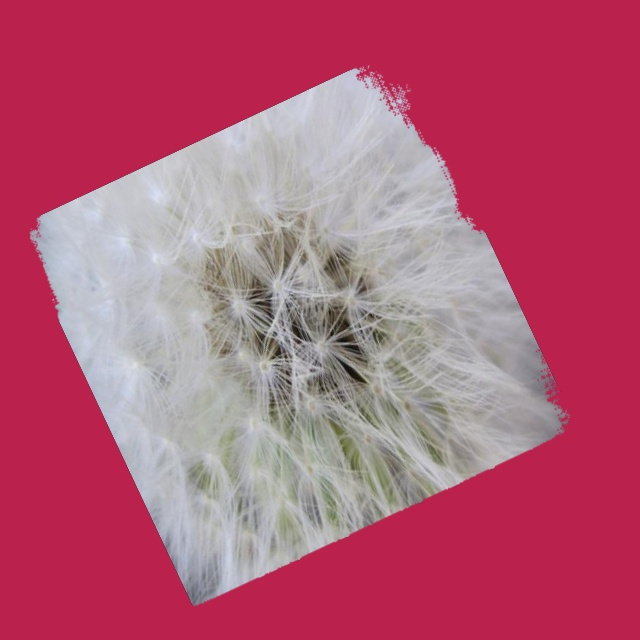dandelion: (30, 66, 569, 605)
